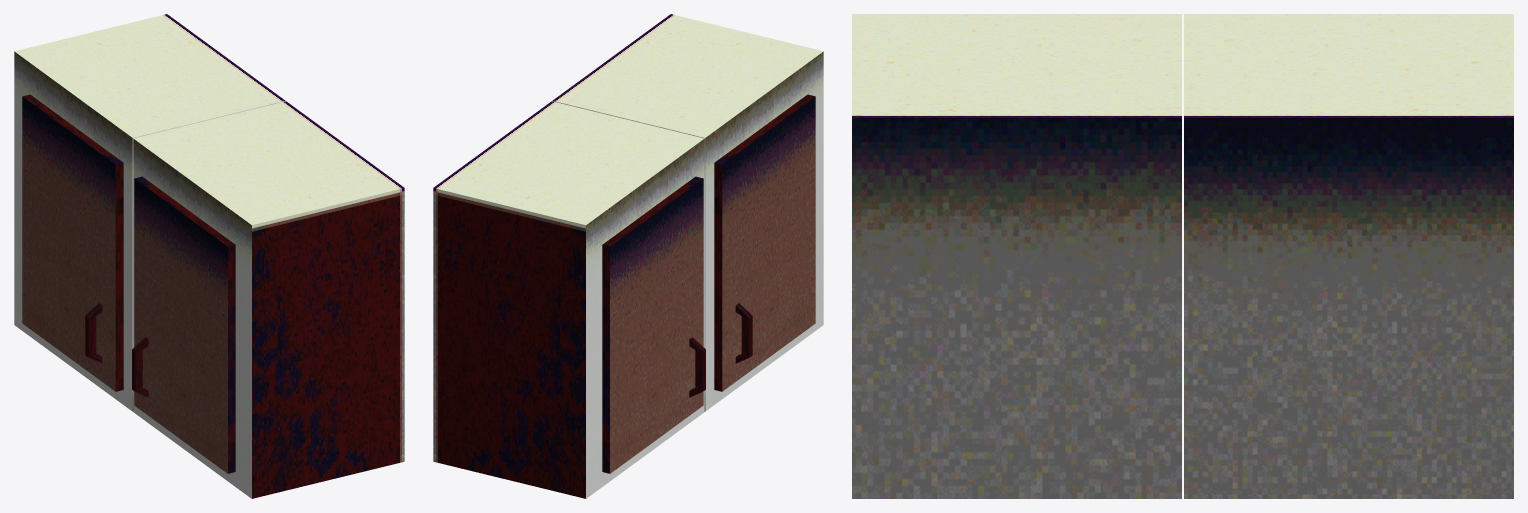
The model's file is DoubleCabinet.obj.
3 views of the same model, side by side, from view 1: azimuth 30°, elevation 25°; view 2: azimuth 150°, elevation 25°; view 3: azimuth 270°, elevation 25° (orthographic). The views are drawn at different scales.
Visible parts, largest first — view 1: Cube.046; view 2: Cube.046; view 3: Cube.046.
Boxes of the visible parts, x1=… form: Cube.046: x1=14, y1=14, x2=404, y2=498; Cube.046: x1=433, y1=14, x2=823, y2=498; Cube.046: x1=852, y1=14, x2=1513, y2=498.
Size of the model in its own units: 1.26 by 1.87 by 2.94.
